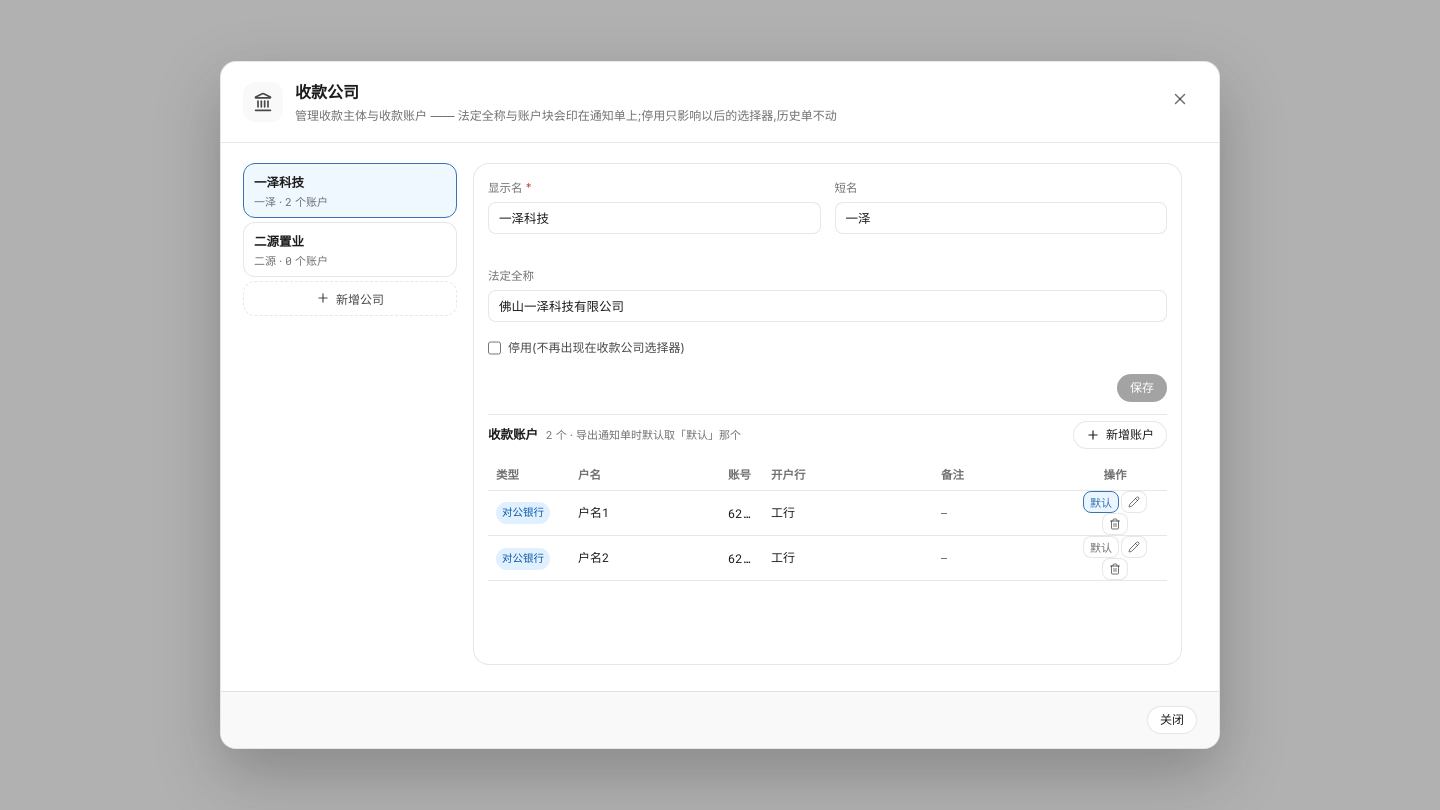
Test: 收款公司 › ❗公司名清空再保存:输入框下面出「公司名必填」,不走回执、不发请求
Clear the field labelled "显示名 *" at (654, 218), box [488,202,820,234]
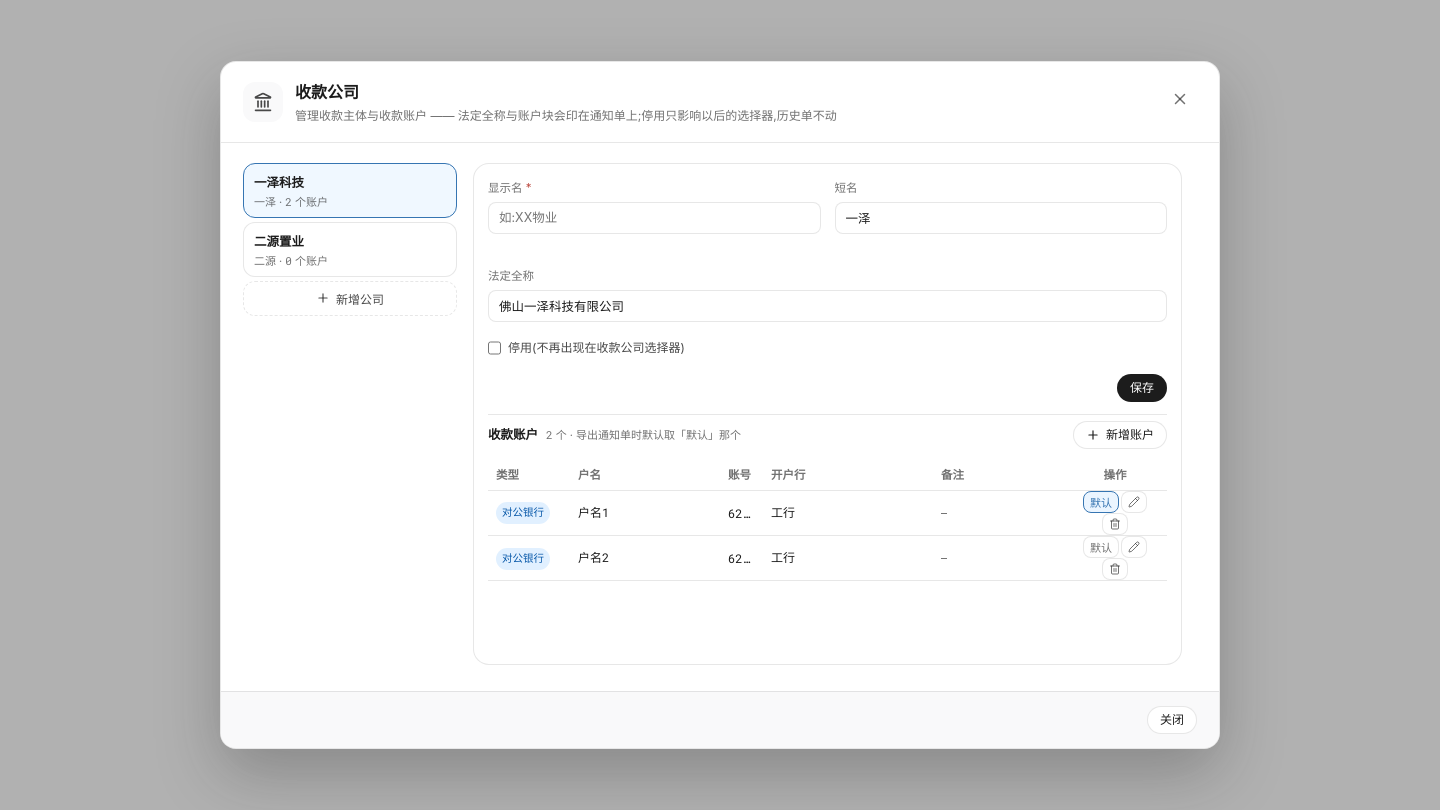
Click the button "保存" at (1142, 388), box [1117,374,1167,402]
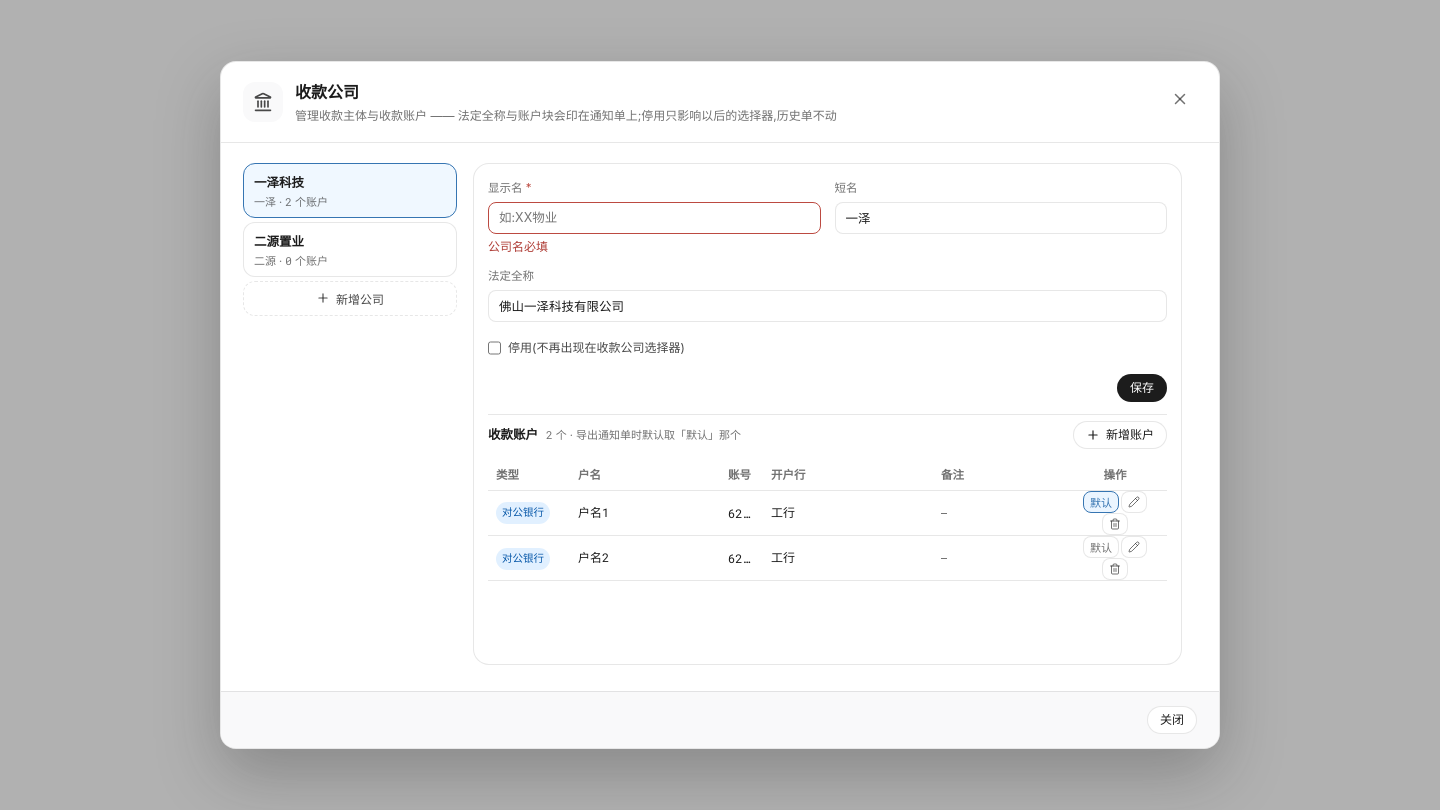
Now the text with class "fp-field-err" reads "公司名必填", box [488,239,548,254]
